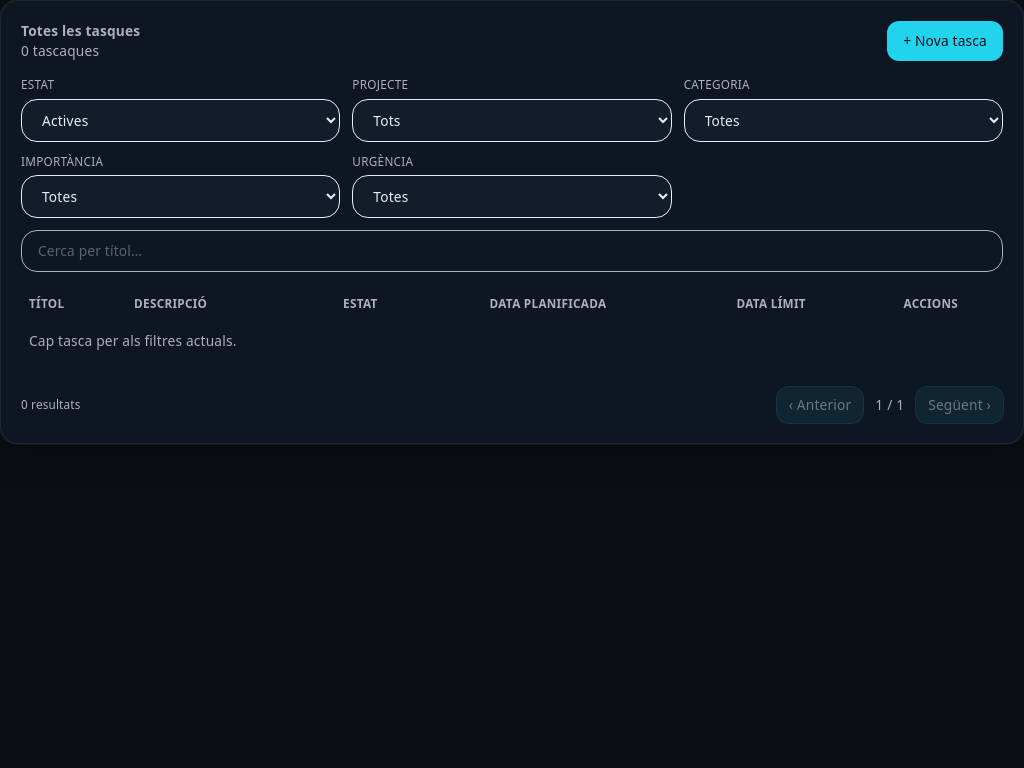
Test case: TasksListPage › opens create modal from button
The image size is (1024, 768).
Click the button "+ Nova tasca": [945, 41] box [887,21,1003,61]
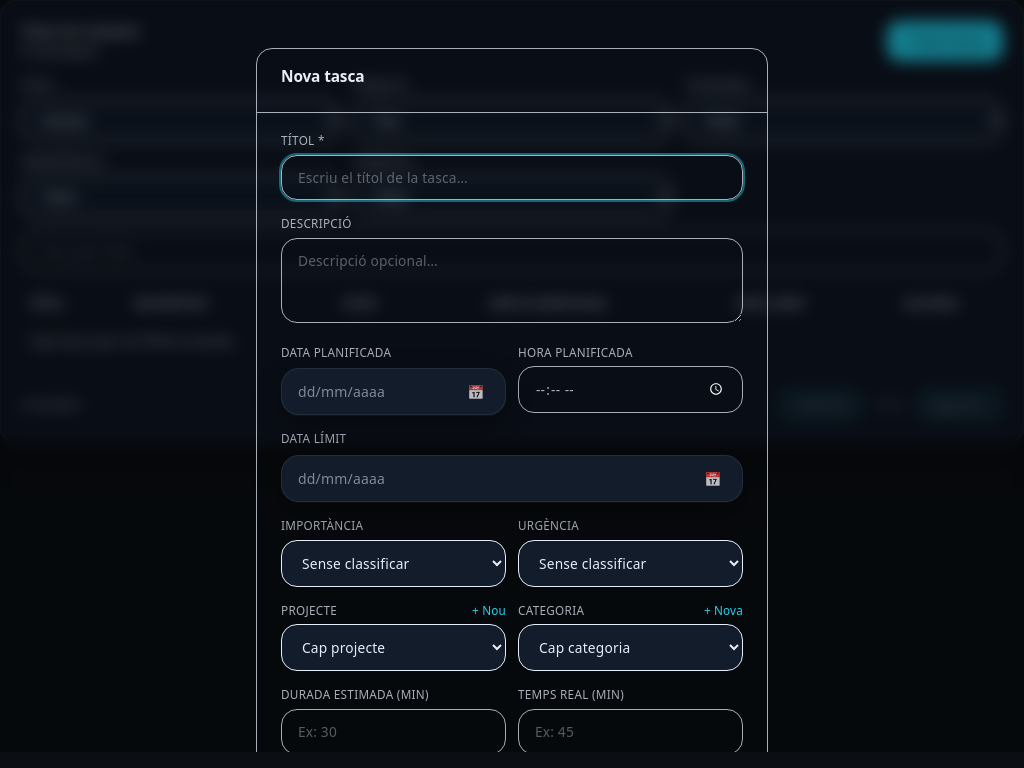
Expected: the dialog is shown
